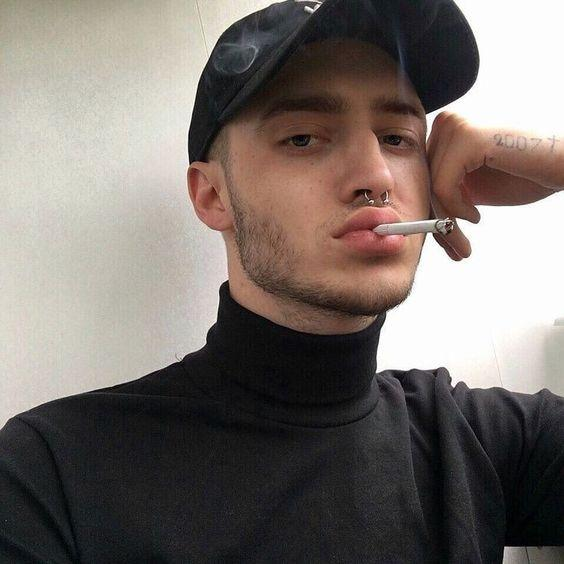cigarette: (372, 218, 454, 236)
